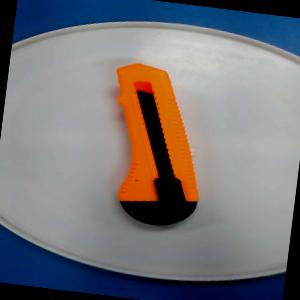estilete: (97, 60, 216, 230)
